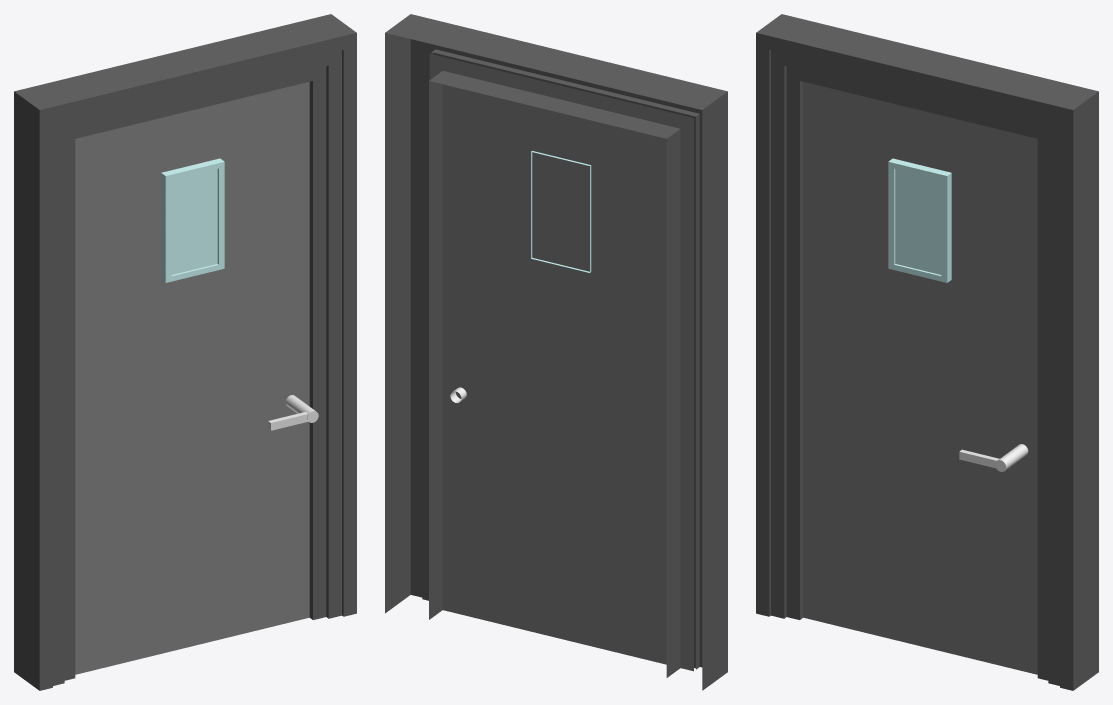
Rendered from PUERTA SALIDA.fbx.
The picture shows the model from 3 angles, left to right: view 1: azimuth 30°, elevation 25°; view 2: azimuth 150°, elevation 25°; view 3: azimuth 330°, elevation 25°; orthographic projection.
Visible parts, largest first — view 1: PuertasBano.001; view 2: PuertasBano.001; view 3: PuertasBano.001.
Boxes of the visible parts, x1=… form: PuertasBano.001: x1=14, y1=14, x2=356, y2=690; PuertasBano.001: x1=385, y1=14, x2=727, y2=690; PuertasBano.001: x1=756, y1=14, x2=1098, y2=690.
Bounding box in the file's own units: 120 × 210 × 26.25.
